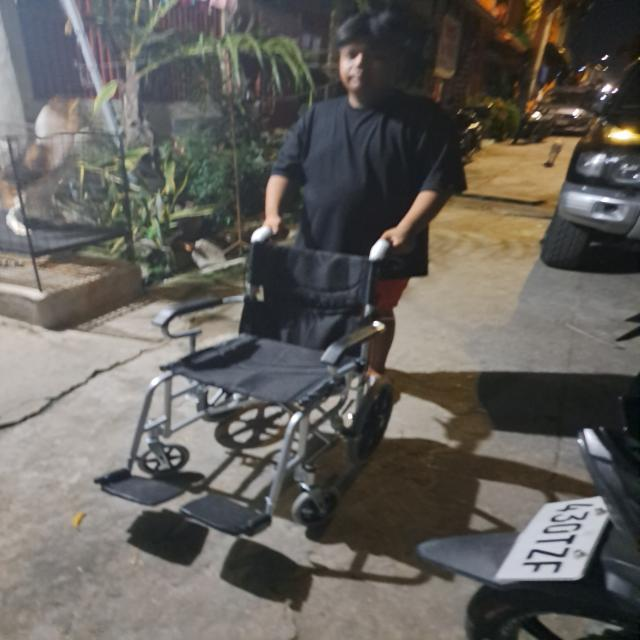wheelchairs: (90, 218, 404, 556)
